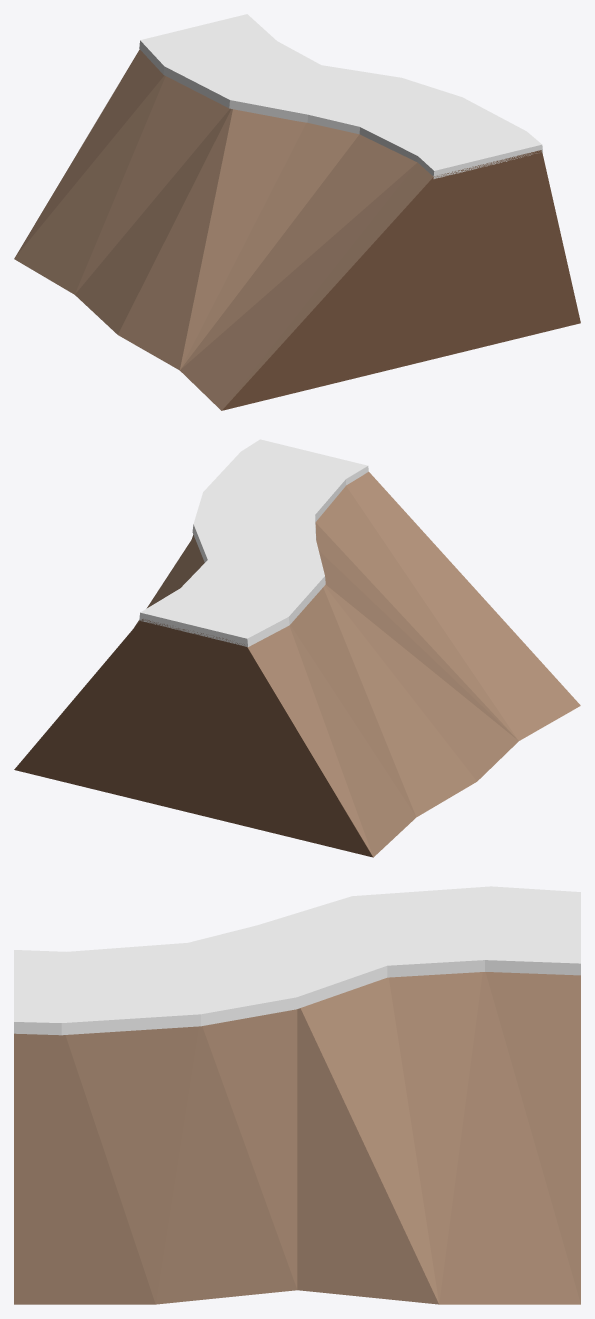
Rendered from East_to_North.fbx.
3 views of the same model, one above another, from view 1: azimuth 30°, elevation 25°; view 2: azimuth 150°, elevation 25°; view 3: azimuth 270°, elevation 25° (orthographic). The views are drawn at different scales.
Parts seen in each view (by area): view 1: Path_06; view 2: Path_06; view 3: Path_06.
Part boxes in pixels (x1,y1,x2,y2): Path_06: (14, 14, 580, 410); Path_06: (14, 439, 580, 857); Path_06: (14, 886, 580, 1304).
Bounding box in the file's own units: 200 × 100 × 200.
Materials: 2 (1 with a texture image).
